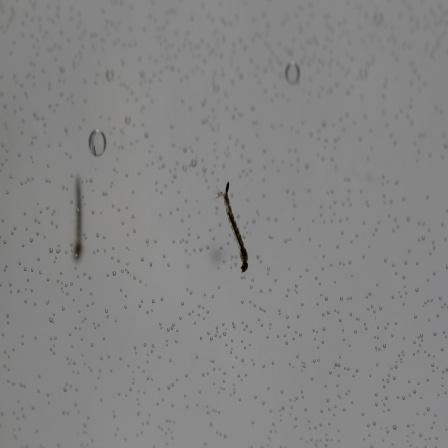Jentik-Nyamuk: (217, 177, 252, 277), (70, 173, 88, 263)
